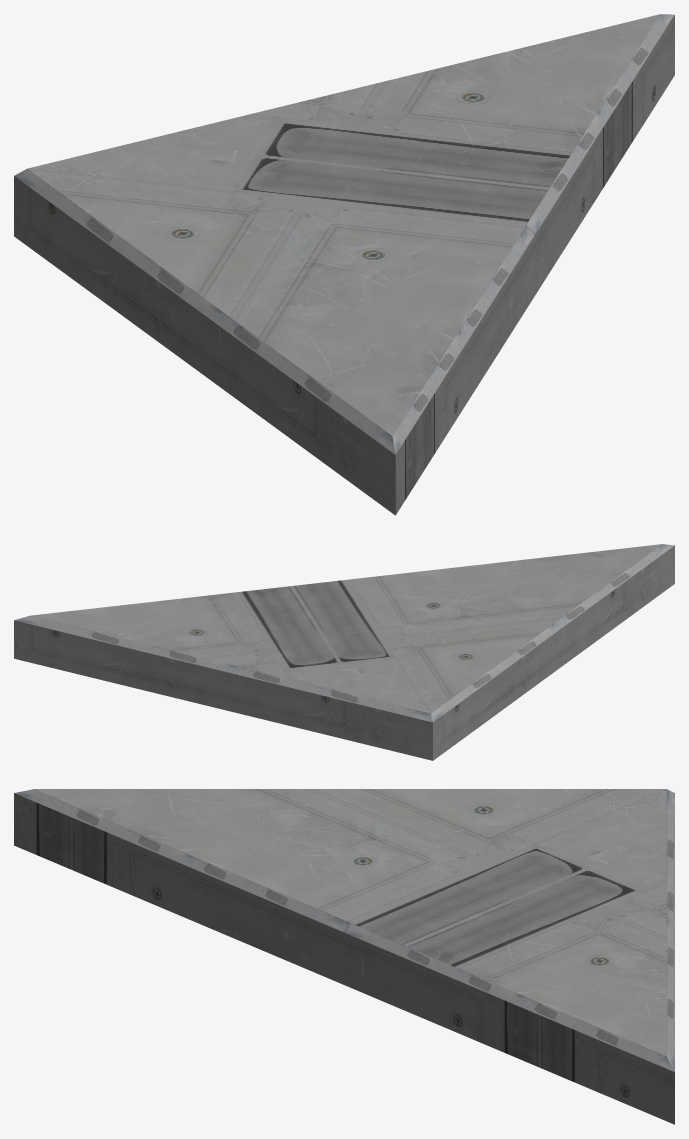
Rendered from SM_FloorHalf3.fbx.
3 renders of one model, top to bottom at view 1: azimuth 30°, elevation 25°; view 2: azimuth 150°, elevation 25°; view 3: azimuth 270°, elevation 25°, orthographic. The views are drawn at different scales.
Parts seen in each view (by area): view 1: SM_FloorHalf3_LOD0; view 2: SM_FloorHalf3_LOD0; view 3: SM_FloorHalf3_LOD0.
Boxes of the visible parts, left/top/right/bottom form: SM_FloorHalf3_LOD0: left=14, top=14, right=674, bottom=515; SM_FloorHalf3_LOD0: left=14, top=544, right=674, bottom=760; SM_FloorHalf3_LOD0: left=14, top=789, right=674, bottom=1124.
Size of the model in its own units: 200 by 200 by 20.
